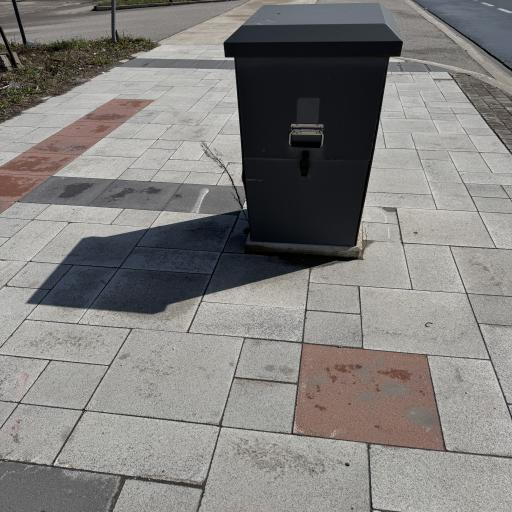Electrical Box: (223, 3, 405, 246)
